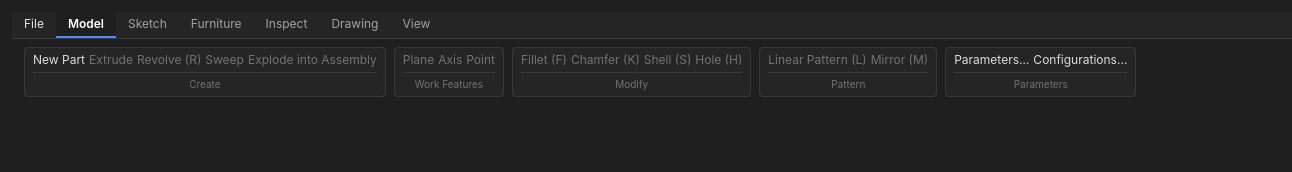
Ribbon › switching to Drawing references sub-project 6
This screenshot has width=1292, height=172.
Click the tab "Drawing".
click(355, 25)  # box top-left (319, 12), bottom-right (390, 38)
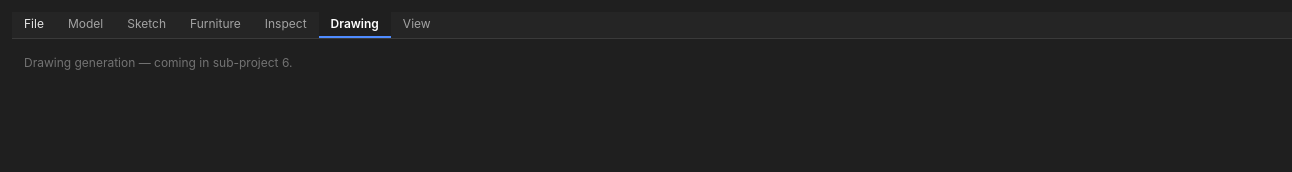
Expected: the text "Drawing generation — coming in sub-project 6." is shown, top-left (24, 55), bottom-right (292, 70)
